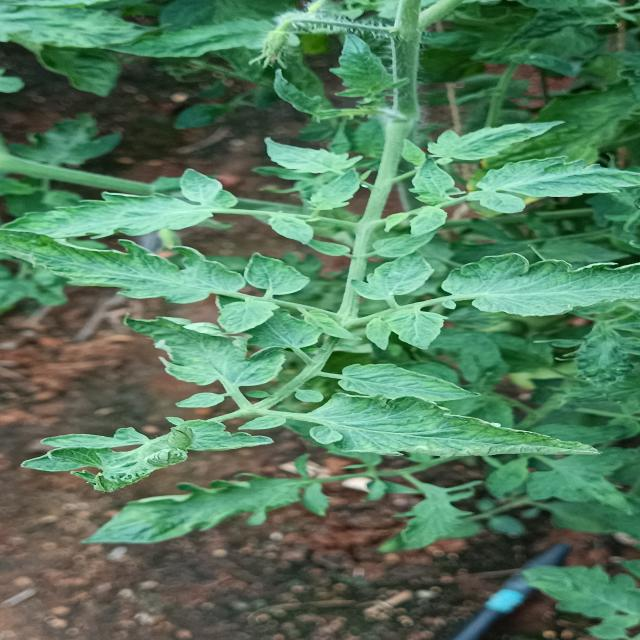Healthy Leaf: (293, 393, 598, 469), (0, 230, 253, 295), (0, 172, 250, 237), (380, 258, 640, 316), (111, 312, 285, 398), (457, 160, 634, 216)
